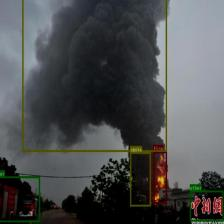fire: (153, 151, 167, 203)
smoke: (22, 0, 167, 152), (130, 152, 151, 206)
